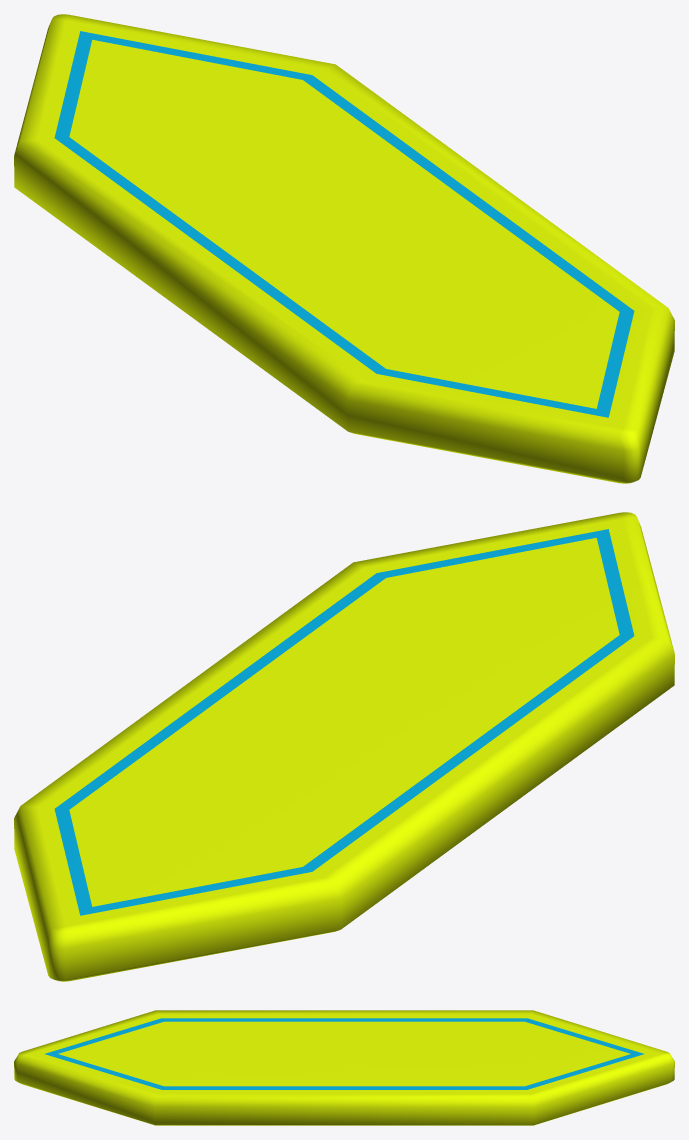
Rendered from ReBlocker_Board_Medium.fbx.
The picture shows the model from 3 angles, top to bottom: view 1: azimuth 30°, elevation 25°; view 2: azimuth 150°, elevation 25°; view 3: azimuth 270°, elevation 25°; orthographic projection. The views are drawn at different scales.
Visible parts, largest first — view 1: ReBlocker_Board_Medium; view 2: ReBlocker_Board_Medium; view 3: ReBlocker_Board_Medium.
Boxes of the visible parts, x1=… form: ReBlocker_Board_Medium: x1=14, y1=14, x2=674, y2=483; ReBlocker_Board_Medium: x1=14, y1=512, x2=674, y2=981; ReBlocker_Board_Medium: x1=14, y1=1010, x2=674, y2=1125.
Size of the model in its own units: 2.28 by 0.3402 by 7.02.
